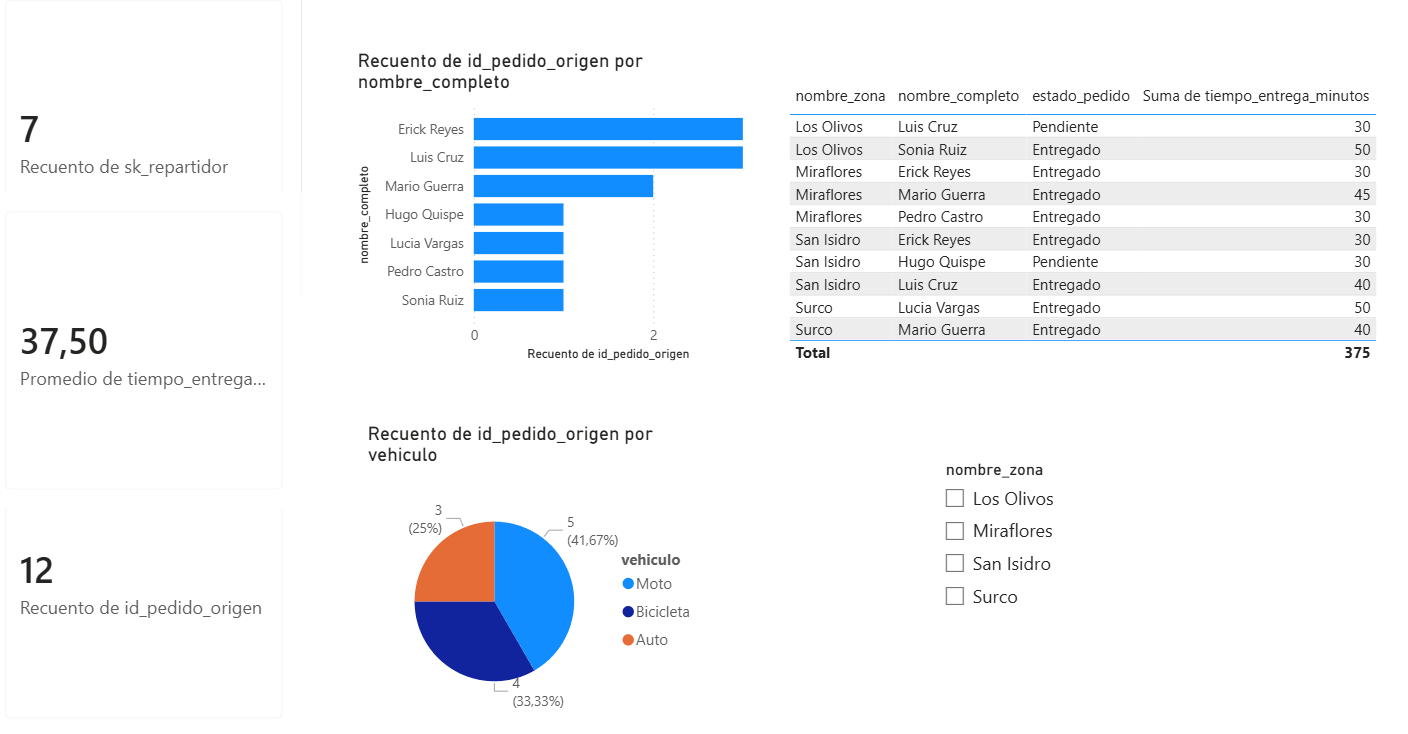

The dashboard page shown, as its layout file describes it:
{"tool":"powerbi","page":{"name":"Página 2","canvas":[1280,720],"ordinal":1},"visuals":[{"type":"cardVisual","fields":{"Data":["Count(Dim_Repartidor.sk_repartidor)"]},"box":[0,0,280.2,280.2],"z":0},{"type":"cardVisual","fields":{"Data":["CountNonNull(Fact_Pedidos.id_pedido_origen)"]},"box":[0,391,280.2,280.2],"z":1},{"type":"cardVisual","fields":{"Data":["Avg(Fact_Pedidos.tiempo_entrega_minutos)"]},"box":[0,187.1,280.2,281.1],"z":2},{"type":"clusteredBarChart","fields":{"Category":["Dim_Repartidor.nombre_completo"],"Y":["CountNonNull(Fact_Pedidos.id_pedido_origen)"]},"box":[324.5,60.3,355.6,281.1],"z":3},{"type":"pieChart","fields":{"Category":["Dim_Repartidor.vehiculo"],"Y":["CountNonNull(Fact_Pedidos.id_pedido_origen)"]},"box":[333.4,391,306.8,280.2],"z":4},{"type":"tableEx","fields":{"Values":["Dim_Zona.nombre_zona","Dim_Repartidor.nombre_completo","Fact_Pedidos.estado_pedido","Sum(Fact_Pedidos.tiempo_entrega_minutos)"]},"box":[706.7,86,542.7,280.2],"z":5},{"type":"slicer","fields":{"Values":["Dim_Zona.nombre_zona"]},"box":[837.9,420.3,279.3,280.2],"z":6}]}

Visuals, with their boxes on the page's 1280x720 design canvas (x1, y1, x2, y2). These are canvas units, not pixel positions in the 1408x734 screenshot, which may show the page scaled, cropped or inside an application window:
cardVisual - Count(Dim_Repartidor.sk_repartidor): 0, 0, 280, 280
cardVisual - CountNonNull(Fact_Pedidos.id_pedido_origen): 0, 391, 280, 671
cardVisual - Avg(Fact_Pedidos.tiempo_entrega_minutos): 0, 187, 280, 468
clusteredBarChart - Dim_Repartidor.nombre_completo x CountNonNull(Fact_Pedidos.id_pedido_origen): 324, 60, 680, 341
pieChart - Dim_Repartidor.vehiculo x CountNonNull(Fact_Pedidos.id_pedido_origen): 333, 391, 640, 671
tableEx - Dim_Zona.nombre_zona x Dim_Repartidor.nombre_completo: 707, 86, 1249, 366
slicer - Dim_Zona.nombre_zona: 838, 420, 1117, 700
